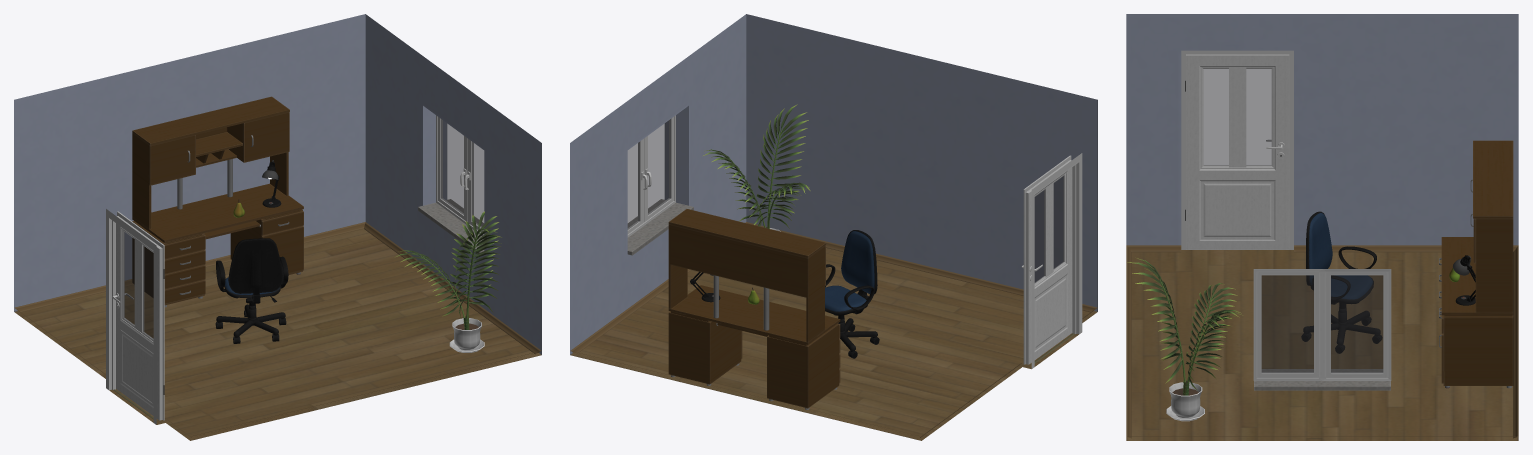
File: stylised_room.glb
The picture shows the model from 3 angles, left to right: view 1: azimuth 30°, elevation 25°; view 2: azimuth 150°, elevation 25°; view 3: azimuth 270°, elevation 25°; orthographic projection. The views are drawn at different scales.
Visible parts, largest first — view 1: LP_Chunk_00, LP_Chunk_00.005, LP_Chunk_00.002, LP_Chunk_00.006; view 2: LP_Chunk_00, LP_Chunk_00.005, LP_Chunk_00.002, LP_Chunk_00.006; view 3: LP_Chunk_00, LP_Chunk_00.005, LP_Chunk_00.006, LP_Chunk_00.002, LP_Chunk_00.003.
Part boxes in pixels (box(x1,y1,x2,y2)): LP_Chunk_00: box(14, 14, 541, 440); LP_Chunk_00.005: box(132, 96, 303, 307); LP_Chunk_00.002: box(215, 238, 288, 343); LP_Chunk_00.006: box(395, 211, 501, 352); LP_Chunk_00: box(570, 14, 1097, 440); LP_Chunk_00.005: box(668, 209, 840, 409); LP_Chunk_00.002: box(825, 230, 879, 358); LP_Chunk_00.006: box(703, 104, 810, 231); LP_Chunk_00: box(1126, 14, 1518, 440); LP_Chunk_00.005: box(1439, 140, 1513, 388); LP_Chunk_00.006: box(1127, 258, 1242, 421); LP_Chunk_00.002: box(1301, 211, 1382, 353); LP_Chunk_00.003: box(1453, 255, 1475, 305).
Bounding box in the file's own units: 4.99 × 2.6 × 3.92.
Materials: 4 (4 with a texture image).
